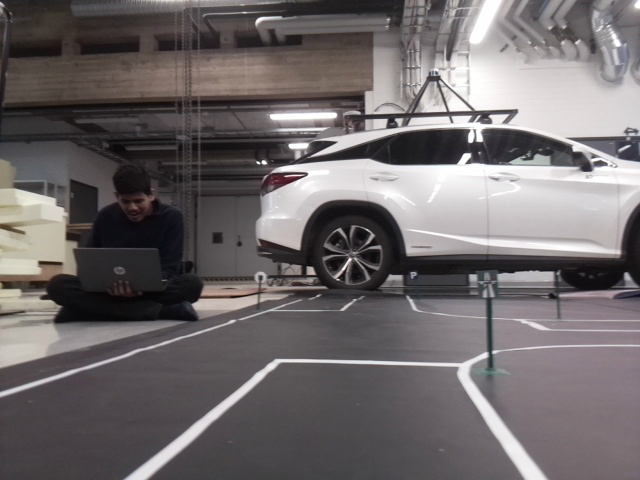HighwayExit: (475, 270, 497, 296)
